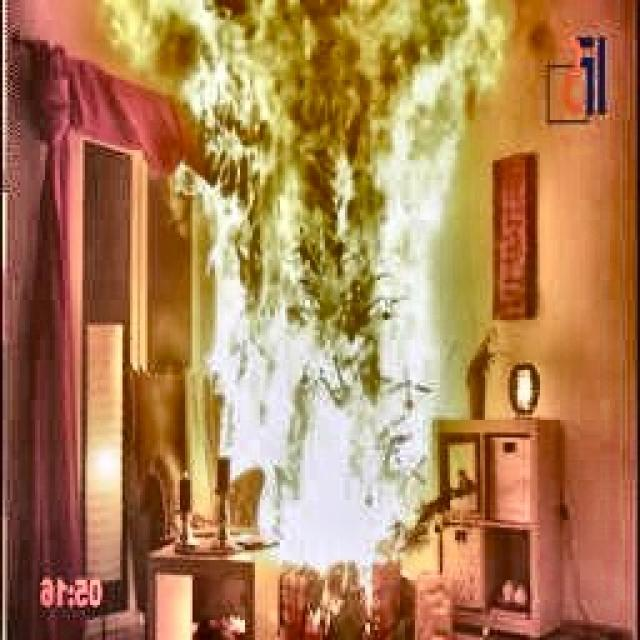fire: (120, 0, 535, 575)
